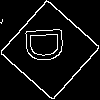D: (25, 25, 73, 64)
